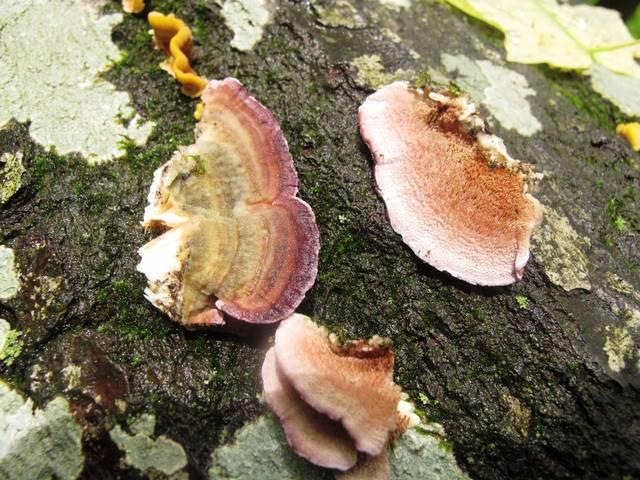Non-edible Mushroom: (134, 75, 321, 332), (355, 77, 545, 287), (259, 311, 405, 474)
